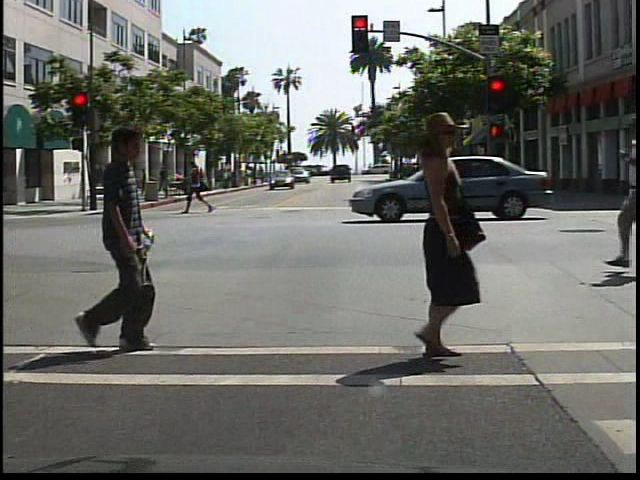person: (375, 116, 506, 362), (57, 125, 189, 355), (179, 156, 217, 217), (135, 164, 156, 206)
